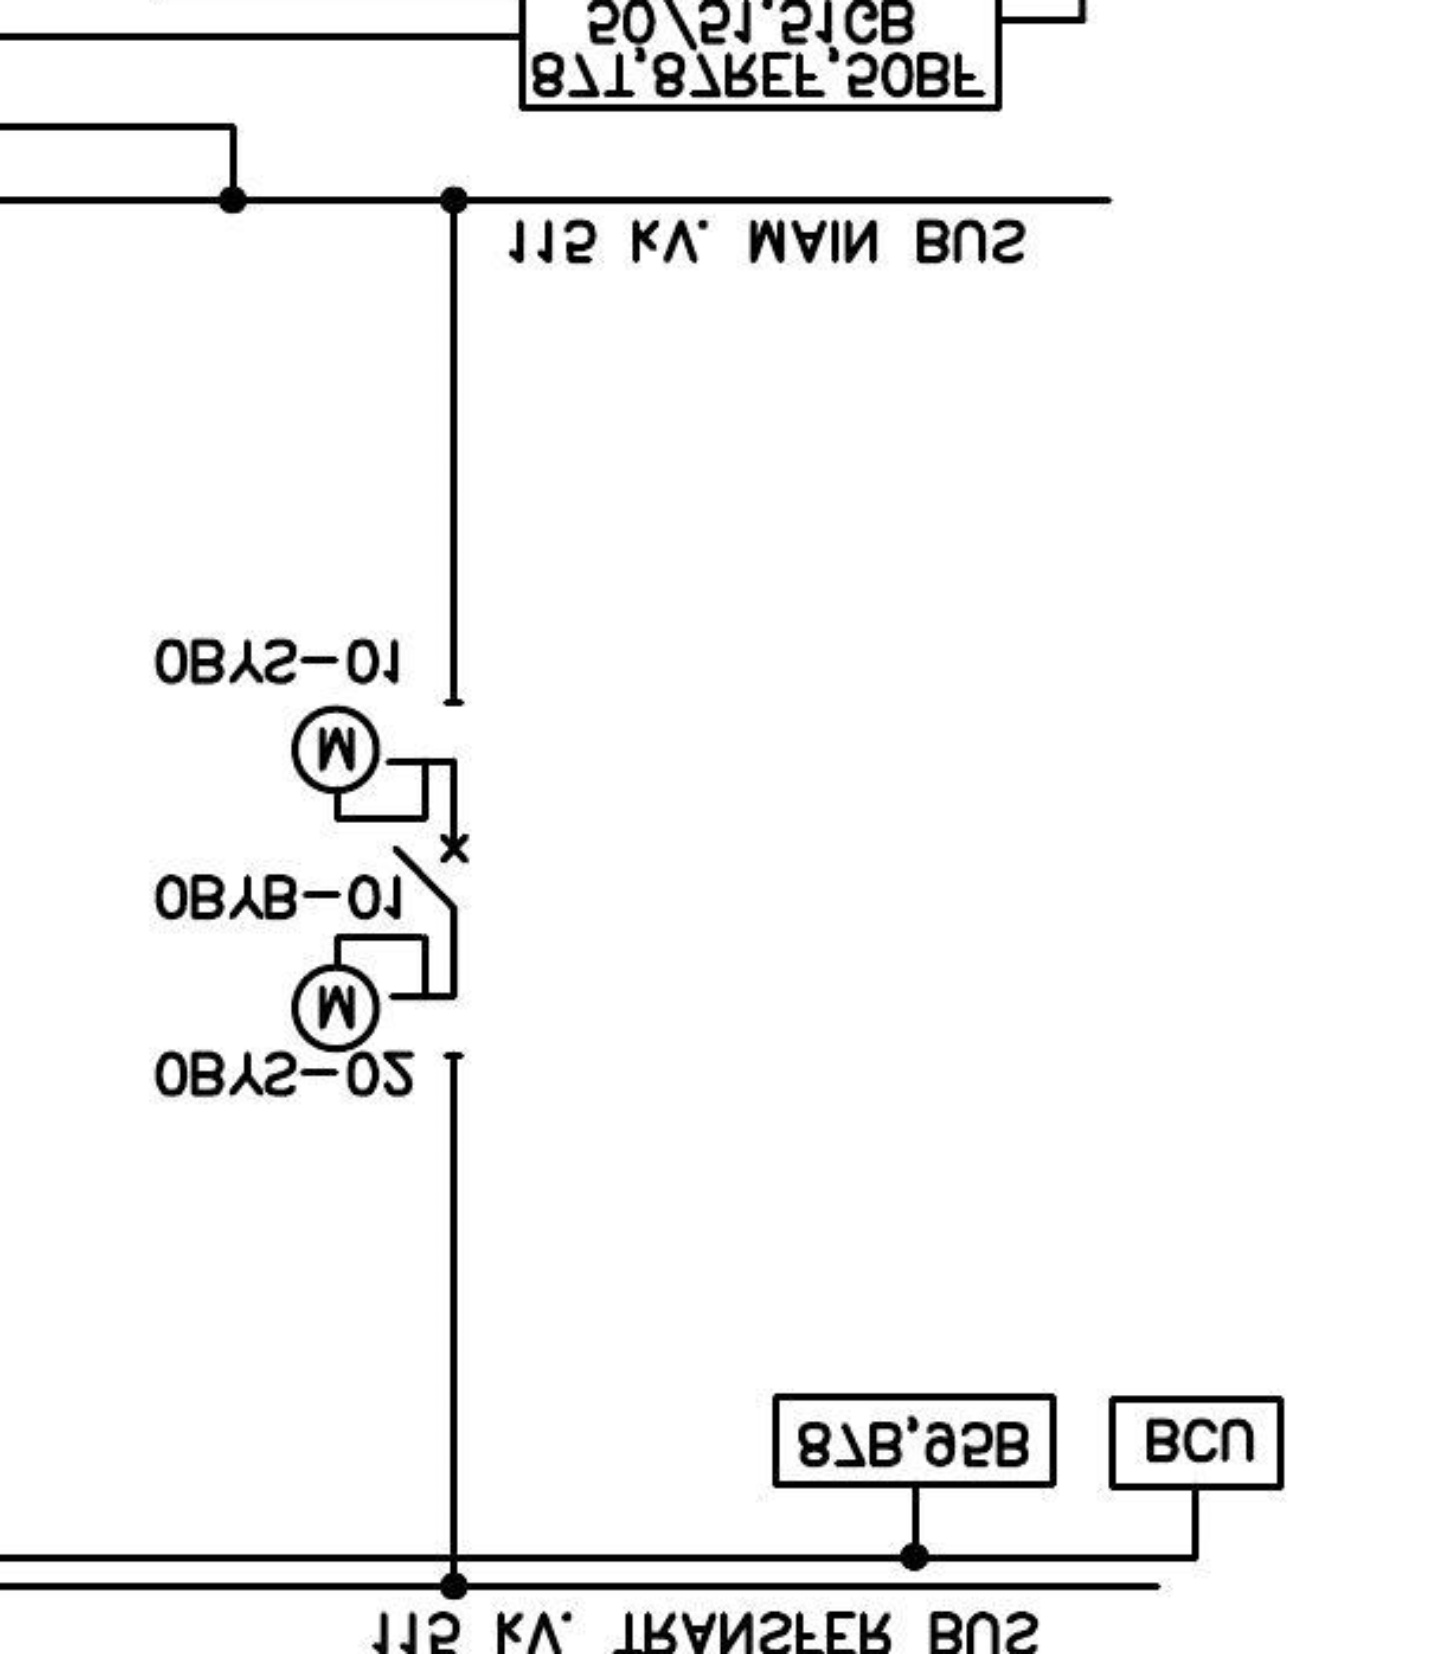115_1way_ds_w_motor: (288, 932, 466, 1060), (290, 698, 467, 823)
115_breaker: (392, 833, 471, 911)
BCU: (1107, 1394, 1287, 1492)
